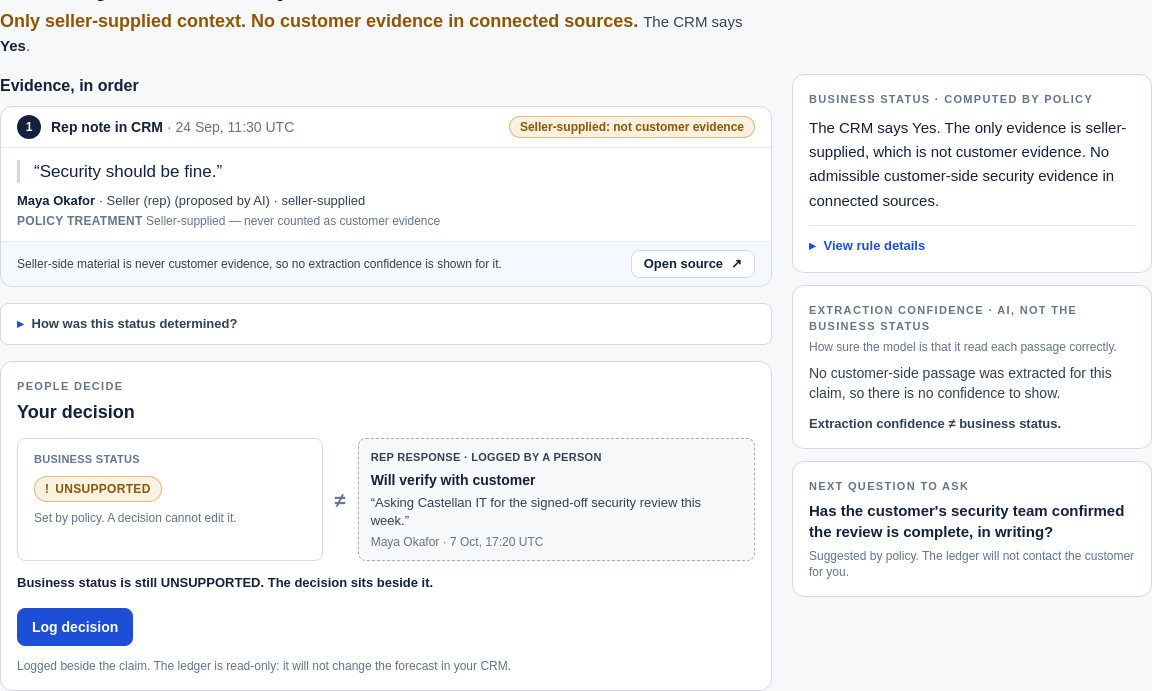
Scenario: Screen 4: human decision › requires a reason
(page scrolled)
What coordinates should you click on to do the following:
click the button "Log decision"
I would click on:
 (75, 627)
Its box is [17,608,133,646].
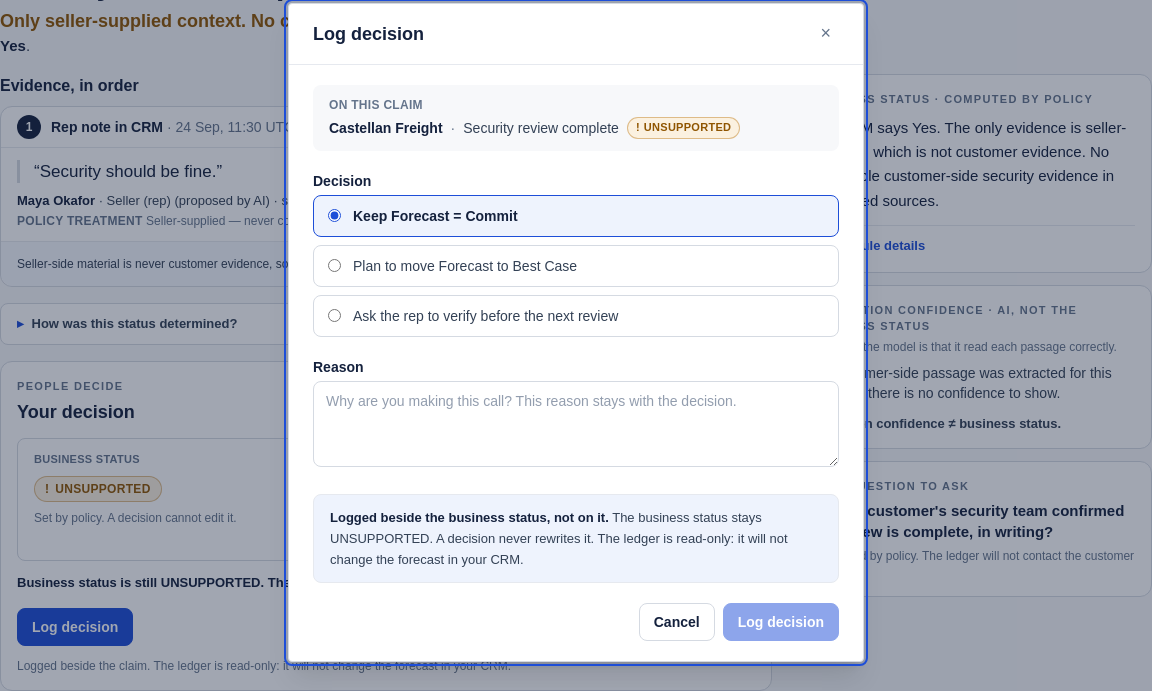
Expected: the button "Log decision" is disabled, [723,603,839,641]
